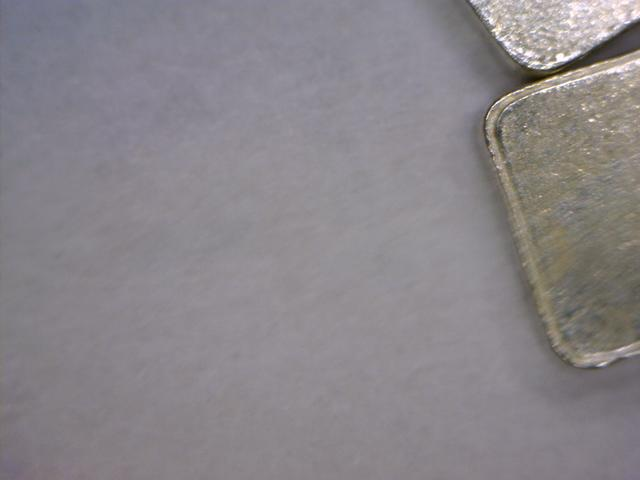nok: (473, 47, 640, 384)
